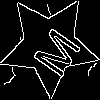M: (24, 20, 83, 80)
